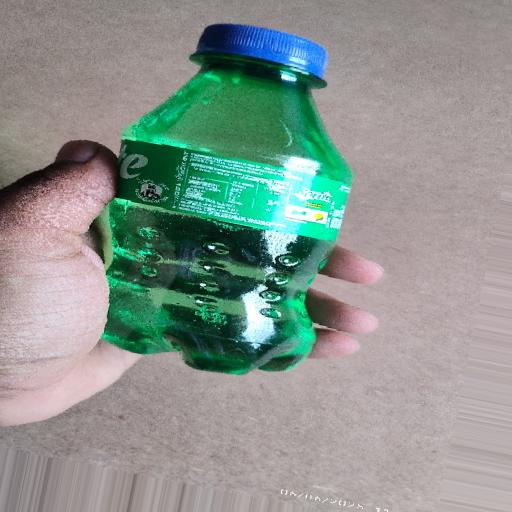Sprite: (82, 7, 391, 394)
